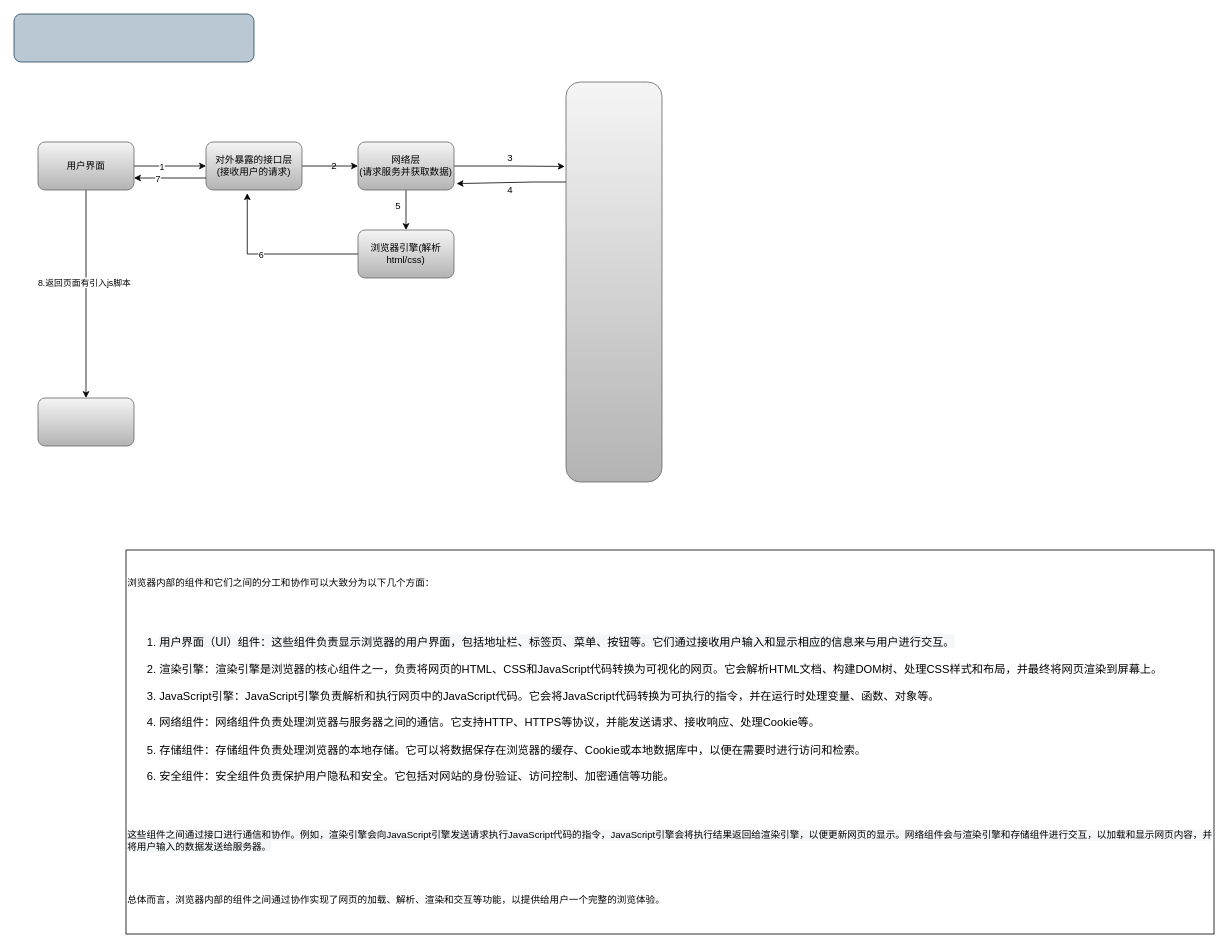
The diagram is 1228 pixels wide and 948 high, and some of its shapes have lost their labels. Each missing label, with the box of its shape:
去远端拉取js文件, 之后通过js发起网络请求: (37, 397, 134, 446)
服务器: (565, 81, 662, 482)
浏览器内部就像我们平常写的一个javaweb程序一样,它既有前端层,接口层,业务层,网络层,还有自己的数据库;: (13, 13, 254, 62)
